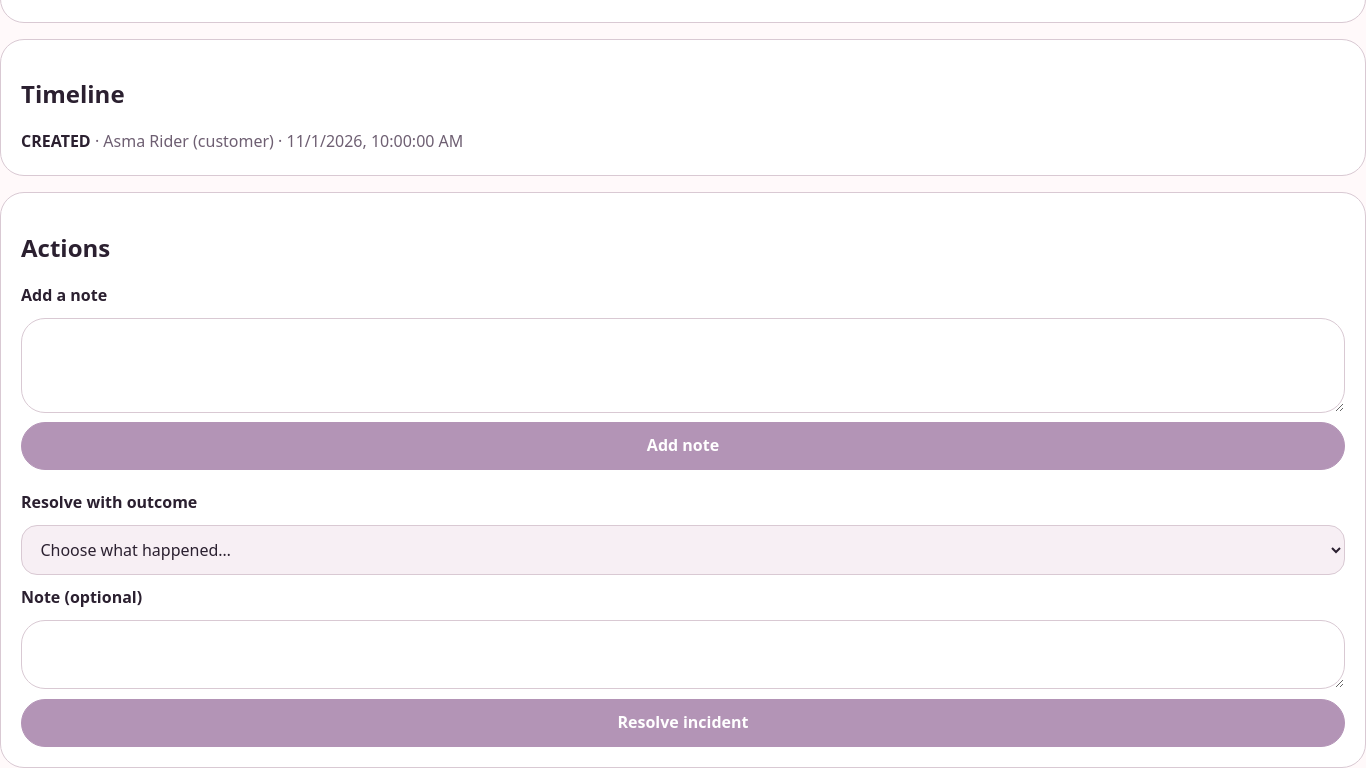
Test case: SafetyIncident › will not resolve until an outcome is chosen, then sends it
The width and height of the screenshot is (1366, 768).
(page scrolled)
Expected: the button "Resolve incident" is disabled, [21, 699, 1345, 747]
Select "Police informed" in the dropdown labelled "Resolve with outcome" at (683, 550), box [21, 526, 1345, 576]
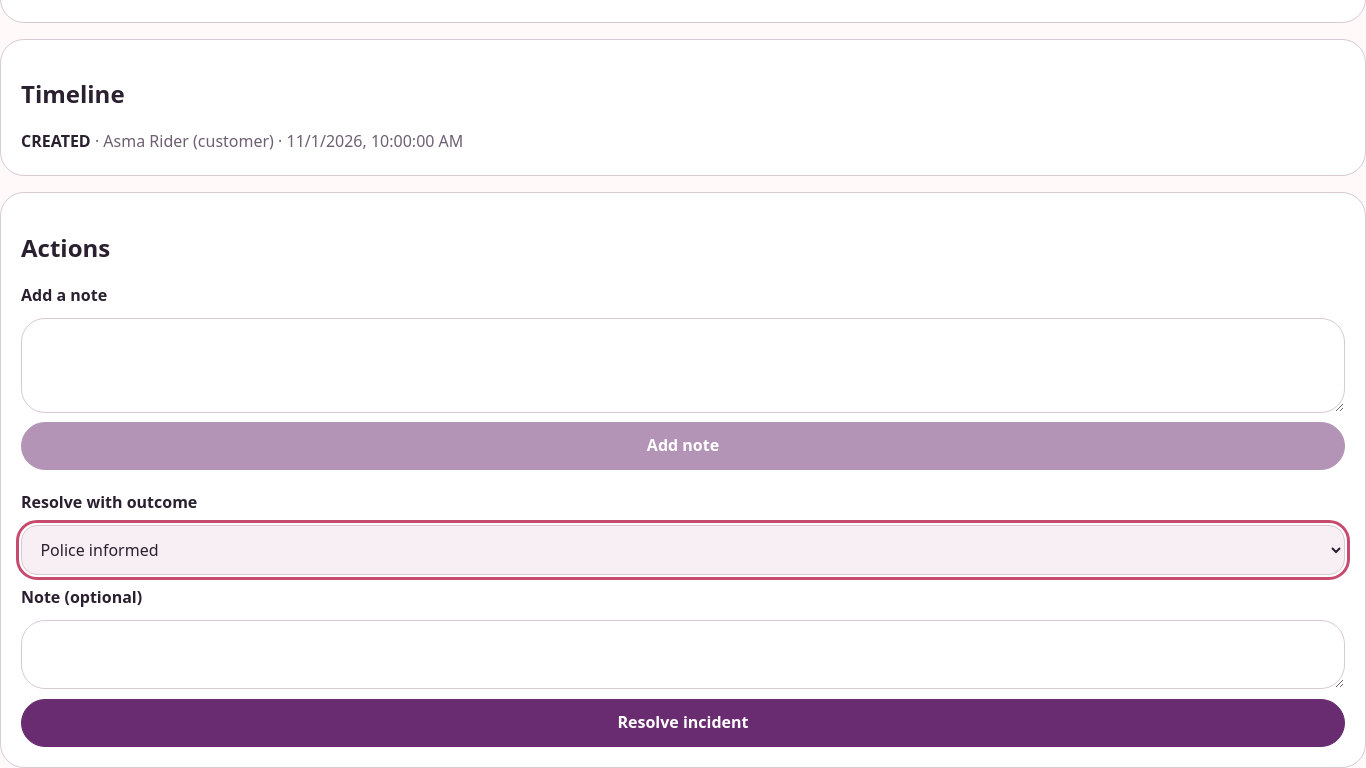
Type "Police called" into the text box labelled "Note (optional)" at (683, 655), box [21, 620, 1345, 690]
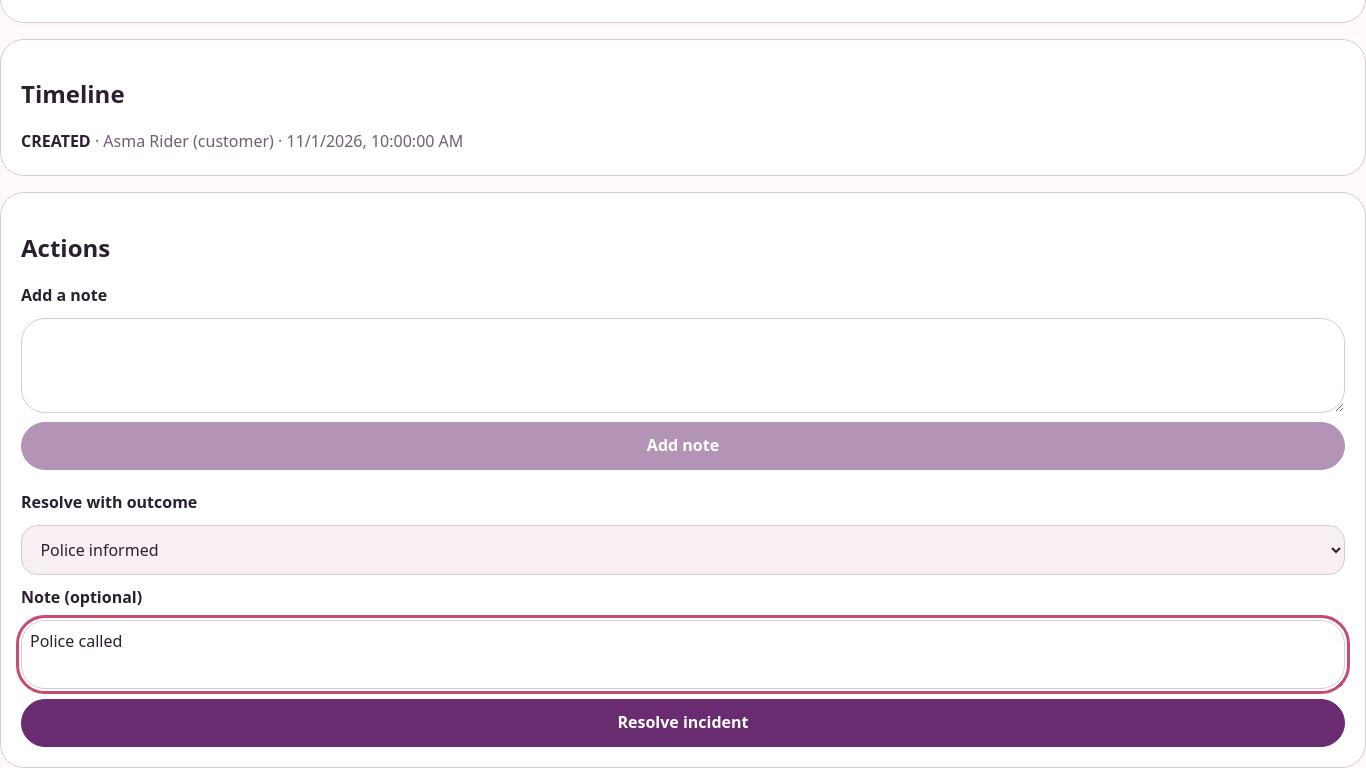
Result: the button "Resolve incident" is enabled
Click the button "Resolve incident" at (683, 723), box [21, 699, 1345, 747]
(page scrolled)
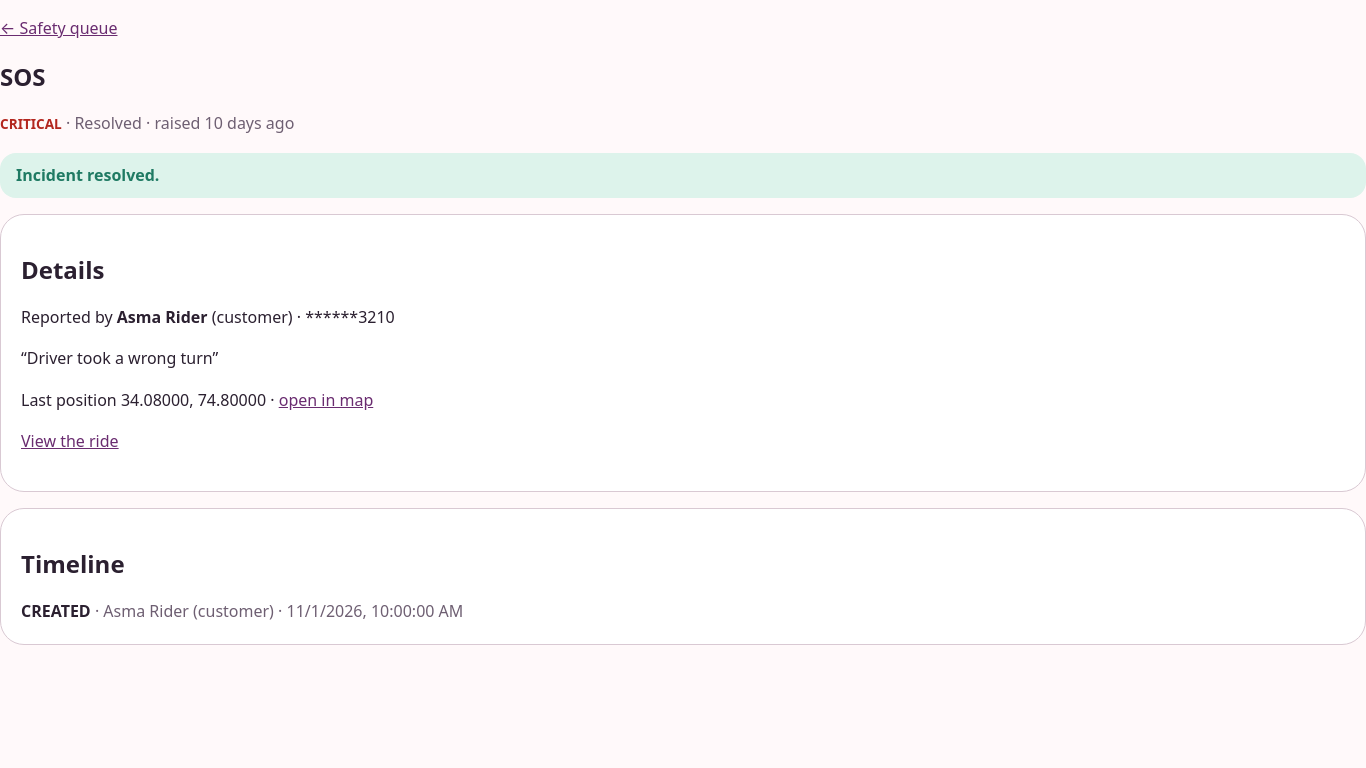
Result: the button "Resolve incident" is gone
